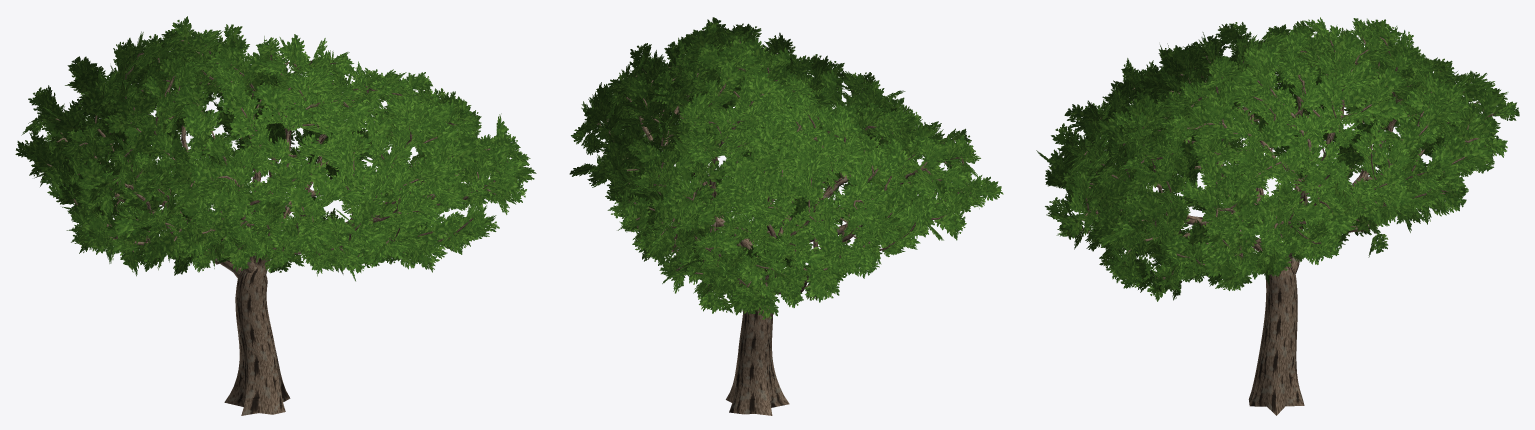
File: oak_01.glb
3 renders of one model, left to right at view 1: azimuth 30°, elevation 25°; view 2: azimuth 150°, elevation 25°; view 3: azimuth 270°, elevation 25°, orthographic. The views are drawn at different scales.
Parts seen in each view (by area): view 1: oak_01; view 2: oak_01; view 3: oak_01.
Part boxes in pixels (x1,y1,x2,y2): oak_01: [15, 16, 536, 415]; oak_01: [569, 17, 1003, 415]; oak_01: [1036, 17, 1519, 415].
Size of the model in its own units: 12.44 by 10.44 by 12.47.
2 materials, 2 textured.
